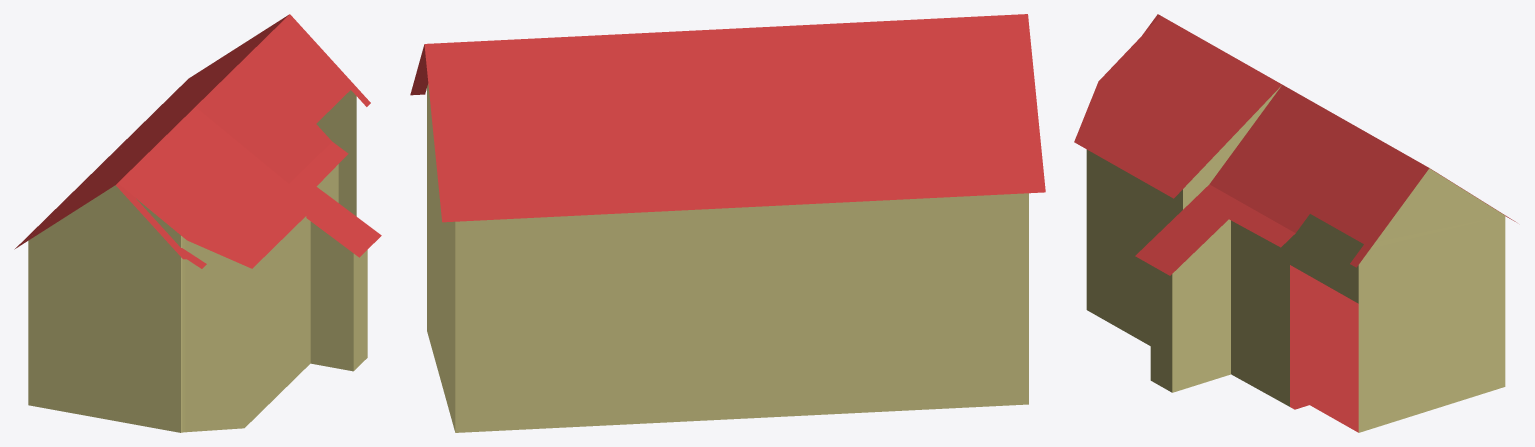
3 views of the same model, side by side, from view 1: azimuth 30°, elevation 25°; view 2: azimuth 150°, elevation 25°; view 3: azimuth 270°, elevation 25° (orthographic). The views are drawn at different scales.
Bounding box in the file's own units: 21.65 × 19.86 × 12.19.
